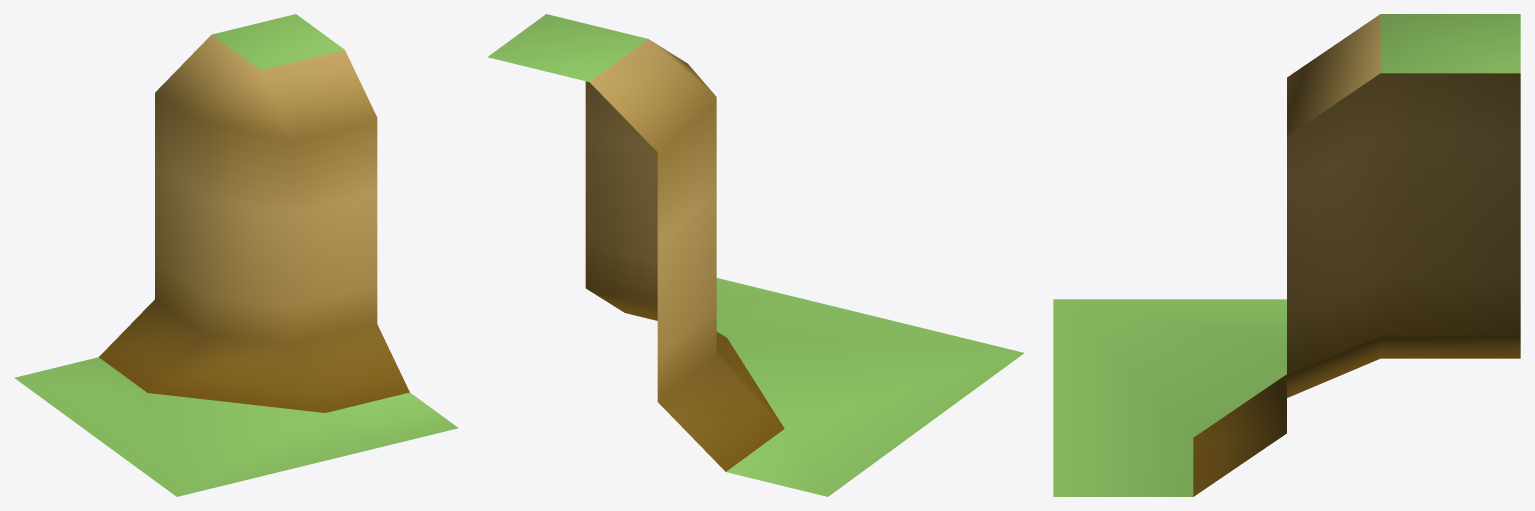
Rendered from corner2.FBX.
3 views of the same model, side by side, from view 1: azimuth 30°, elevation 25°; view 2: azimuth 150°, elevation 25°; view 3: azimuth 270°, elevation 25° (orthographic). The views are drawn at different scales.
Visible parts, largest first — view 1: wall003; view 2: wall003; view 3: wall003.
Boxes of the visible parts, left/top/right/bottom form: wall003: left=14, top=14, right=458, bottom=496; wall003: left=487, top=14, right=1024, bottom=496; wall003: left=1053, top=14, right=1520, bottom=496.
Size of the model in its own units: 100 by 100 by 100.
